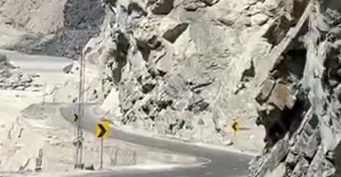right: (174, 117, 258, 177)
